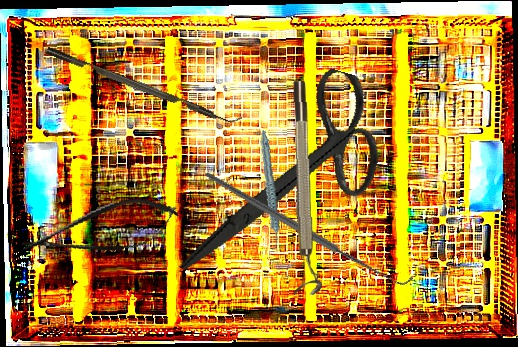Chopper: (45, 37, 244, 131)
Fixation Ring: (290, 80, 322, 296)
Handpiece: (246, 130, 292, 251)
Hook Surgical: (202, 109, 415, 345)
Iris Scissors: (178, 43, 399, 312)
Micro Scissor: (17, 190, 184, 271)
